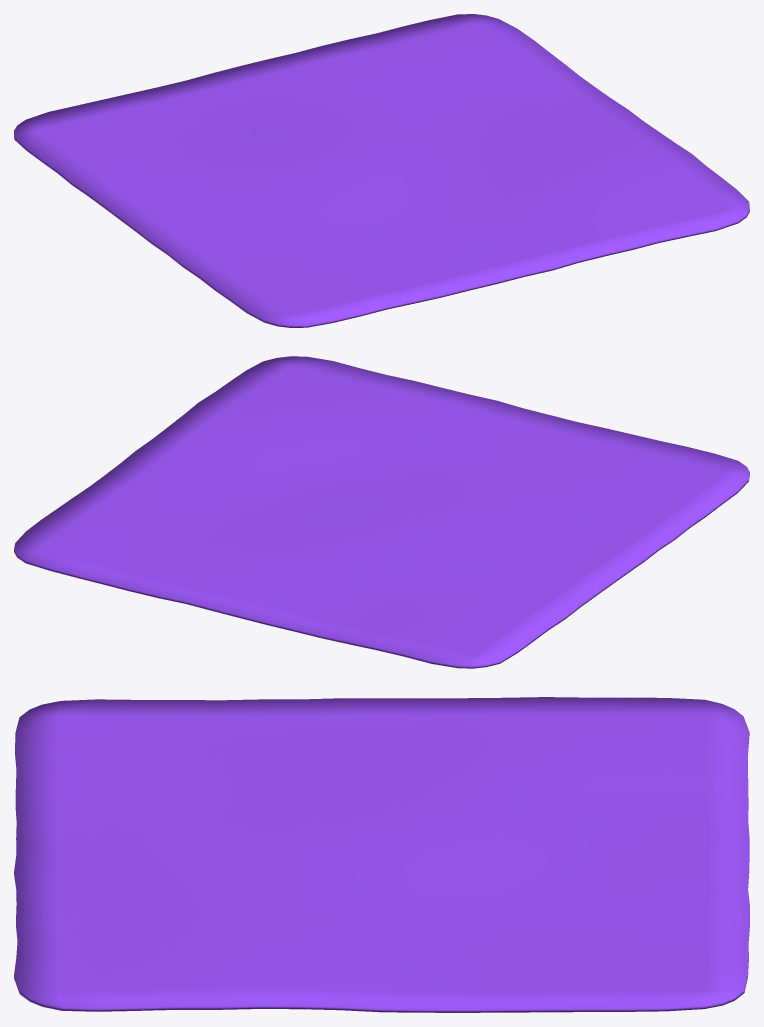
Rendered from alcohol wipe.fbx.
3 views of the same model, one above another, from view 1: azimuth 30°, elevation 25°; view 2: azimuth 150°, elevation 25°; view 3: azimuth 270°, elevation 25° (orthographic). The views are drawn at different scales.
Parts seen in each view (by area): view 1: kasa.003; view 2: kasa.003; view 3: kasa.003.
Boxes of the visible parts, x1,y1,x2,y2 form: kasa.003: (14,14,749,327); kasa.003: (14,356,749,668); kasa.003: (14,697,749,1012).
Bounding box in the file's own units: 0.0999 × 0.00149 × 0.0999.
